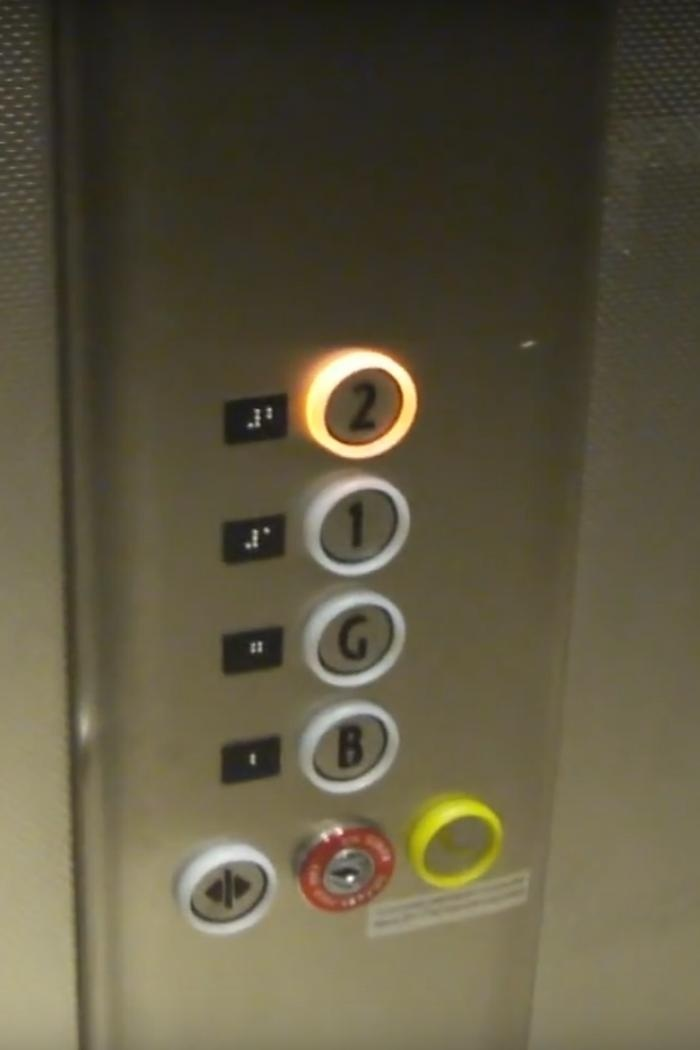1: (298, 472, 417, 581)
2: (297, 345, 426, 465)
B: (294, 698, 400, 796)
G: (299, 587, 409, 692)
blur: (405, 793, 508, 891)
keyhole: (291, 817, 397, 917)
open: (169, 840, 281, 940)
